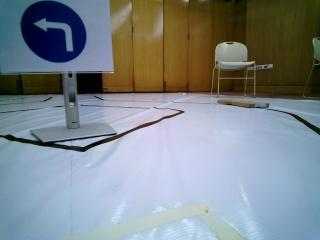left: (10, 2, 111, 72)
